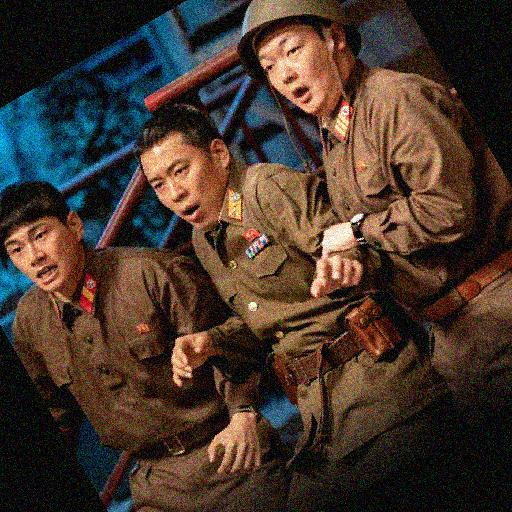north army: (116, 92, 444, 512), (199, 4, 512, 414), (5, 159, 274, 512)
